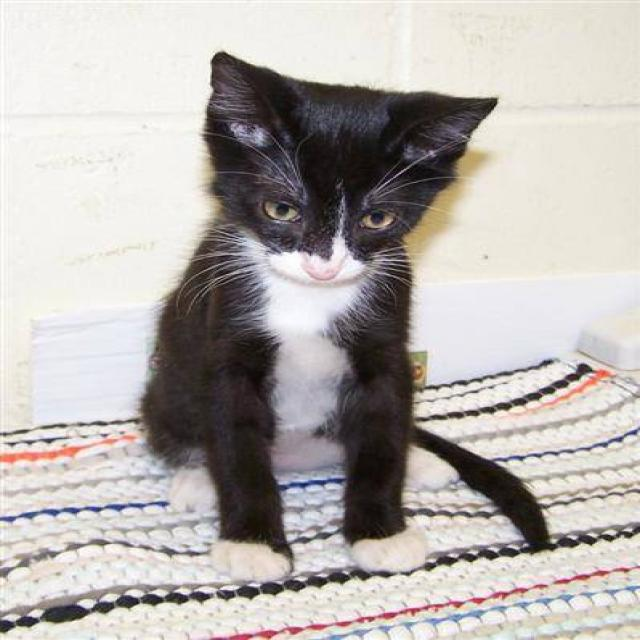cat: (135, 49, 555, 582)
